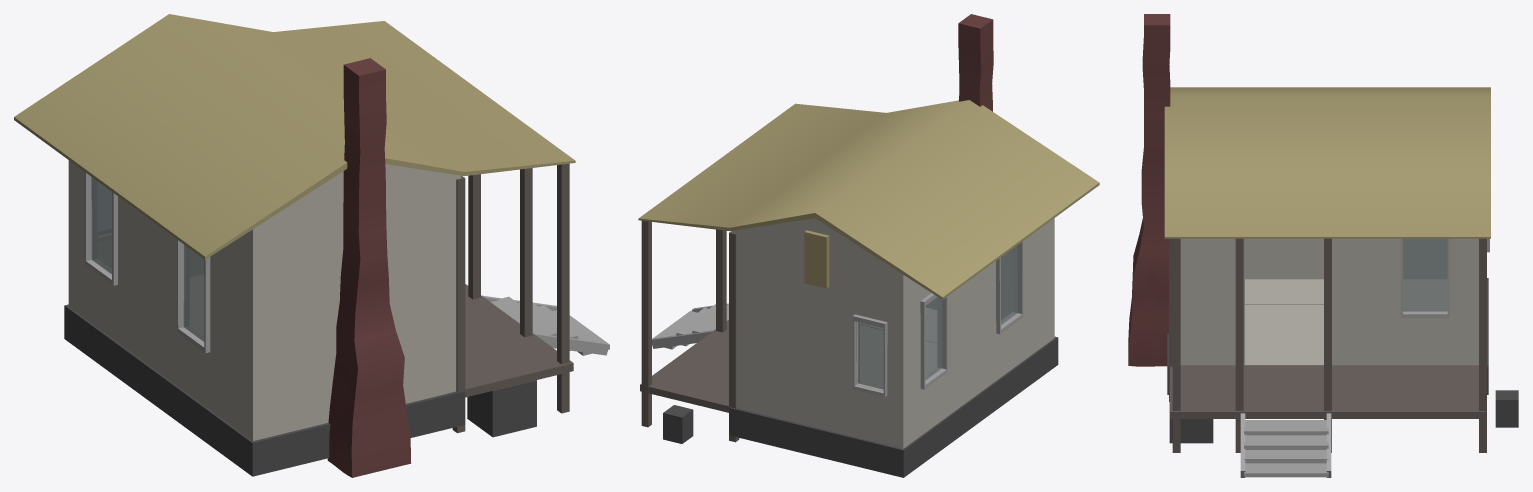
Rendered from cabaña.fbx.
3 views of the same model, side by side, from view 1: azimuth 30°, elevation 25°; view 2: azimuth 150°, elevation 25°; view 3: azimuth 270°, elevation 25° (orthographic). The views are drawn at different scales.
Visible parts, largest first — view 1: pCube41; view 2: pCube41; view 3: pCube41.
Part boxes in pixels (left/top/right/bottom): pCube41: left=14, top=14, right=609, bottom=477; pCube41: left=638, top=14, right=1099, bottom=477; pCube41: left=1128, top=14, right=1518, bottom=477.
Bounding box in the file's own units: 16.79 × 14.53 × 14.74.
